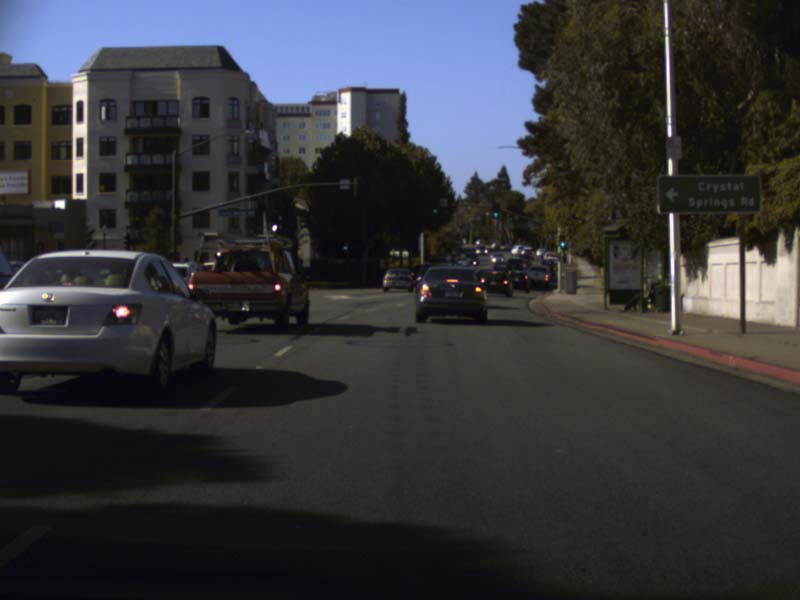Green: (431, 199, 437, 214), (493, 201, 498, 217), (343, 235, 348, 250), (508, 212, 513, 222), (560, 235, 564, 247)
